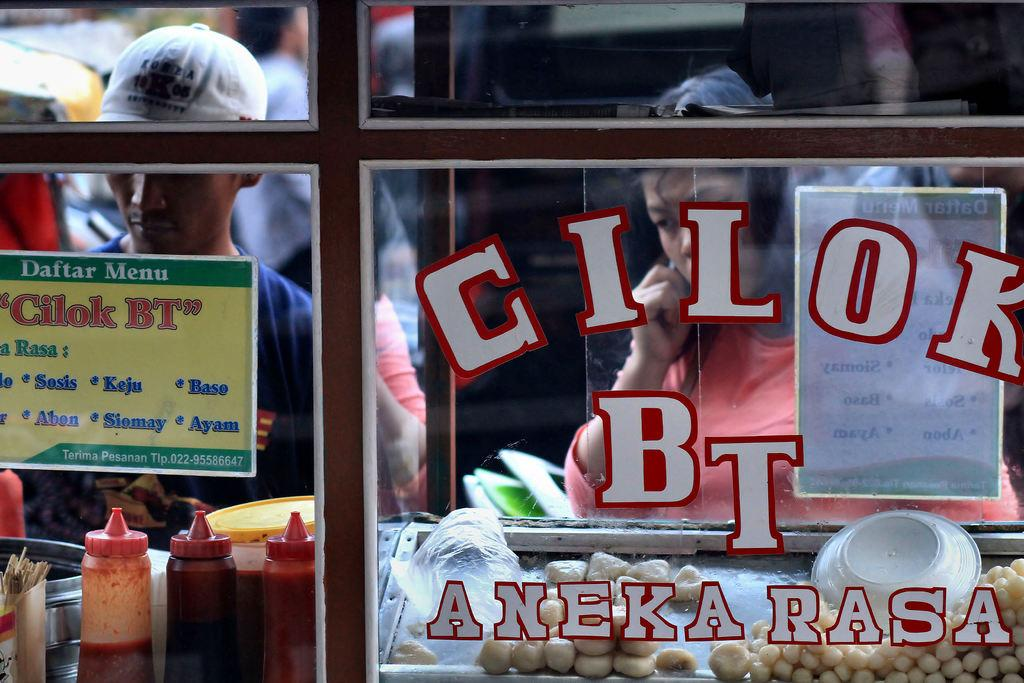Hat: (94, 23, 267, 122)
